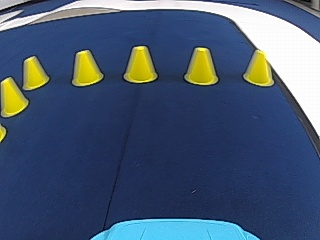cone: (123, 45, 158, 84), (184, 46, 218, 86), (242, 48, 274, 87), (71, 49, 104, 86), (0, 76, 29, 115), (21, 55, 49, 89)
